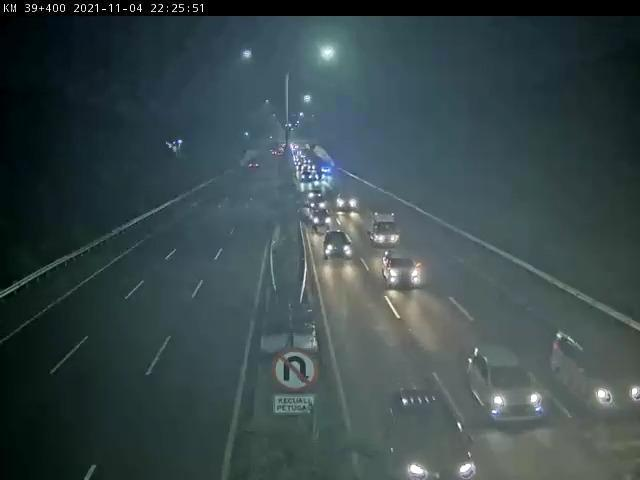car: (385, 385, 478, 480), (556, 322, 640, 419), (468, 345, 547, 423), (383, 248, 424, 291), (325, 227, 354, 259), (312, 206, 334, 233), (335, 190, 360, 213)
truck: (367, 208, 401, 248)
